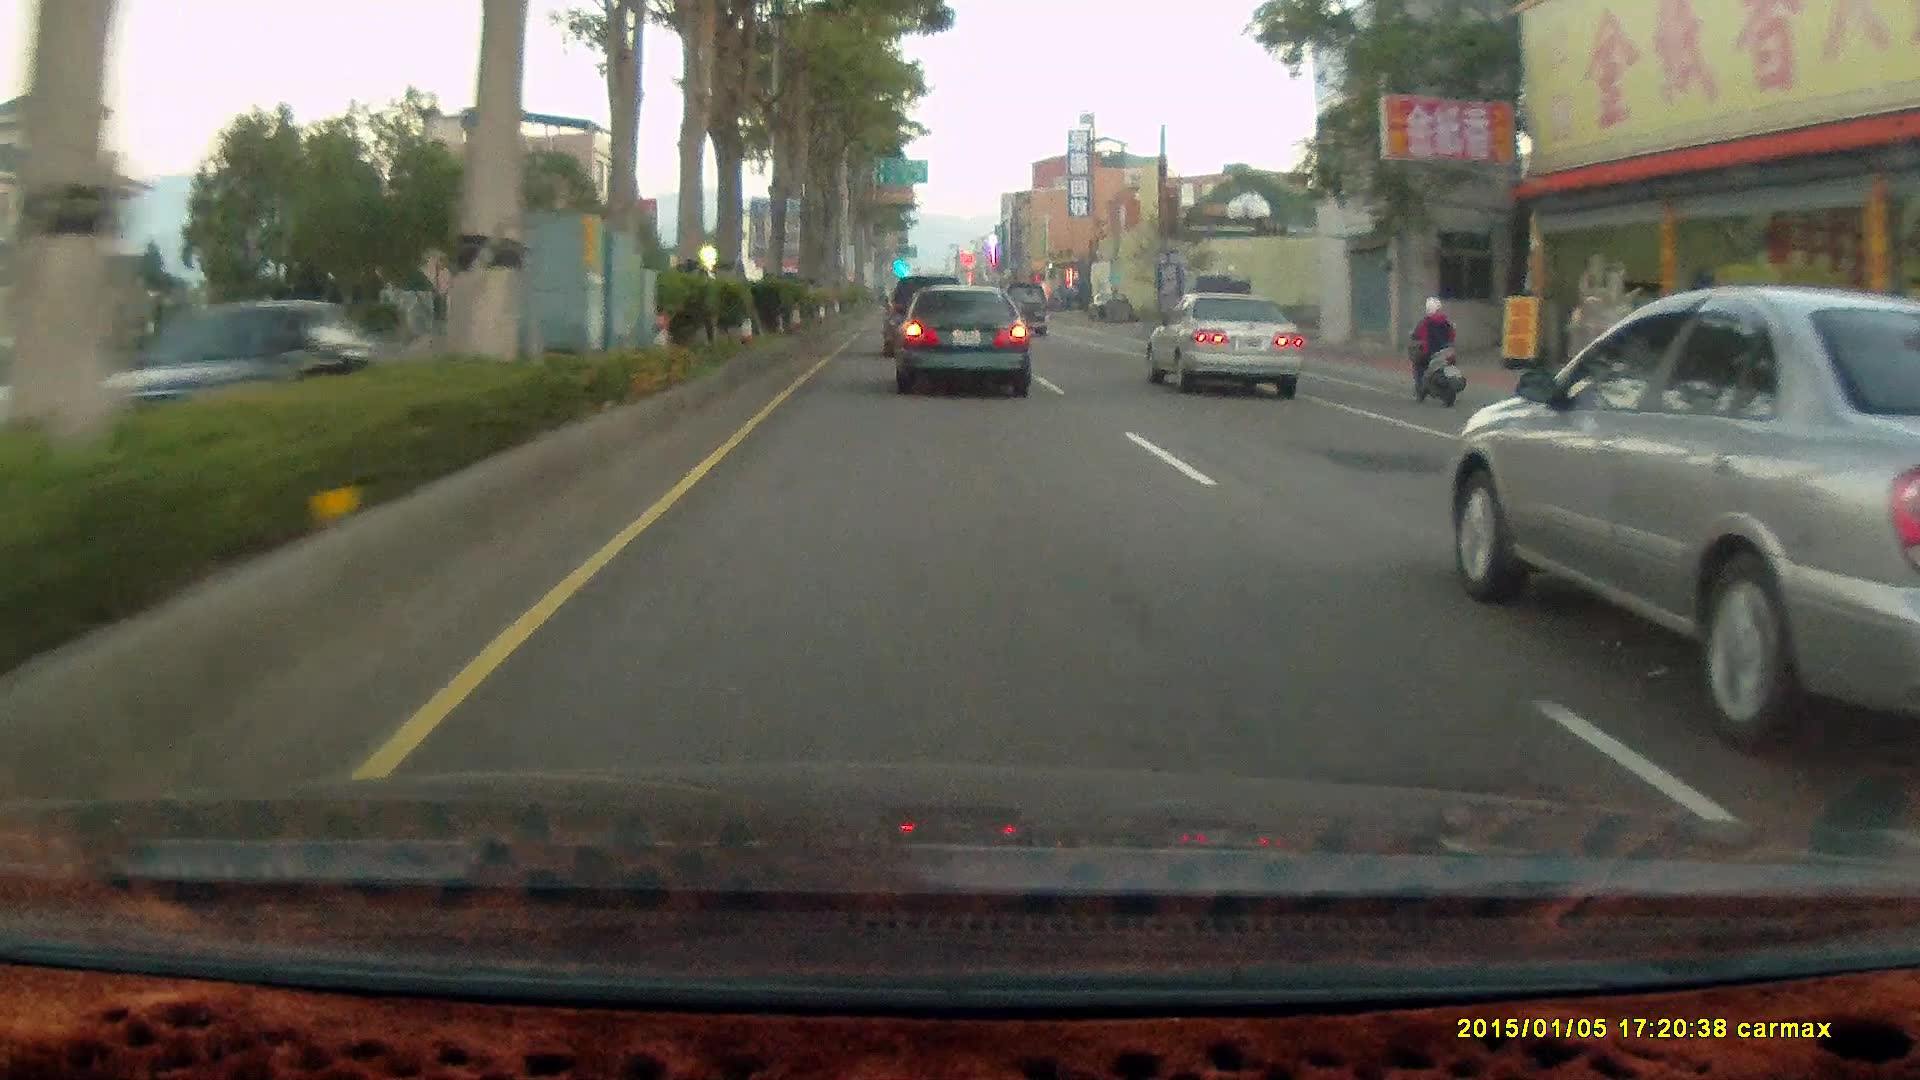rider: (1397, 289, 1475, 414), (1402, 291, 1467, 406)
vehicle: (1442, 288, 1920, 757), (73, 299, 357, 434), (1145, 290, 1305, 403), (1145, 288, 1303, 397), (893, 284, 1034, 403), (892, 287, 1032, 399), (884, 272, 973, 357), (882, 275, 964, 353), (1176, 277, 1252, 347), (999, 282, 1046, 338)
